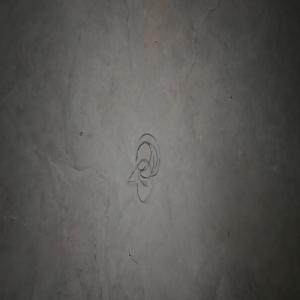Wire: (127, 133, 159, 201)
